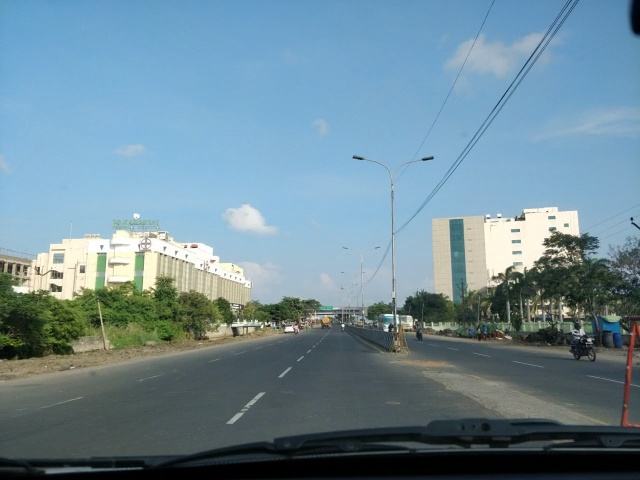bus: (378, 312, 403, 345), (378, 314, 399, 332), (402, 314, 411, 330)
car: (285, 323, 294, 334)
motorbike: (566, 316, 600, 362), (412, 316, 430, 340), (293, 323, 300, 334), (341, 322, 347, 331), (389, 325, 394, 333)
person: (475, 323, 490, 340)
truck: (321, 317, 331, 328)
